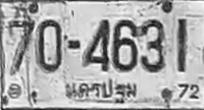0: (37, 19, 62, 72)
1: (176, 19, 186, 72)
3: (140, 18, 165, 72)
4: (82, 18, 110, 70)
6: (112, 19, 139, 71)
7: (8, 17, 34, 74)
NPT: (61, 75, 139, 104)
